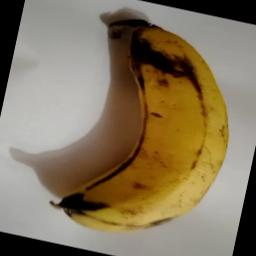Banana Unripe: (58, 0, 256, 249)
